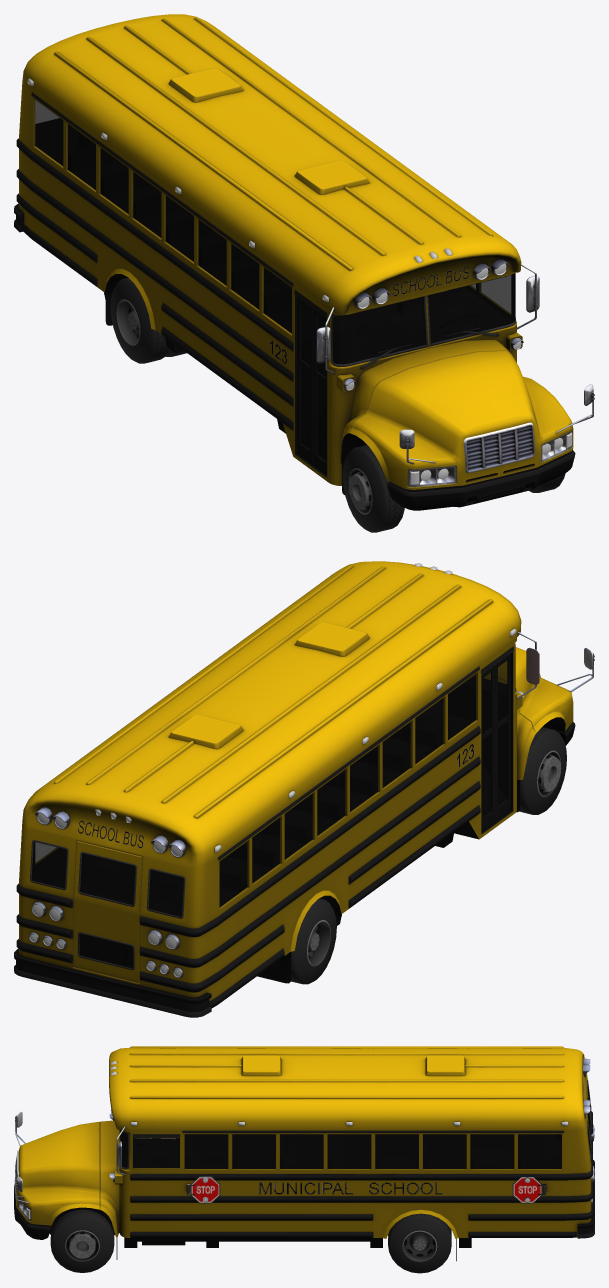
File: schoolbus.fbx
3 renders of one model, top to bottom at view 1: azimuth 30°, elevation 25°; view 2: azimuth 150°, elevation 25°; view 3: azimuth 270°, elevation 25°, orthographic. The views are drawn at different scales.
Visible parts, largest first — view 1: school_bus, schoolbus_wheelFR, schoolbus_wheelRR; view 2: school_bus, schoolbus_wheelFR, schoolbus_wheelRR; view 3: school_bus, schoolbus_wheelFL, schoolbus_wheelRL.
Boxes of the visible parts, x1=… form: school_bus: x1=14, y1=14, x2=594, y2=510; schoolbus_wheelFR: x1=342, y1=445, x2=404, y2=532; schoolbus_wheelRR: x1=110, y1=277, x2=186, y2=363; school_bus: x1=14, y1=561, x2=594, y2=1017; schoolbus_wheelFR: x1=519, y1=727, x2=566, y2=814; schoolbus_wheelRR: x1=291, y1=898, x2=336, y2=984; school_bus: x1=14, y1=1046, x2=594, y2=1261; schoolbus_wheelFL: x1=50, y1=1209, x2=114, y2=1272; schoolbus_wheelRL: x1=388, y1=1213, x2=451, y2=1273.
Size of the model in its own units: 2668 by 2791 by 8266.
